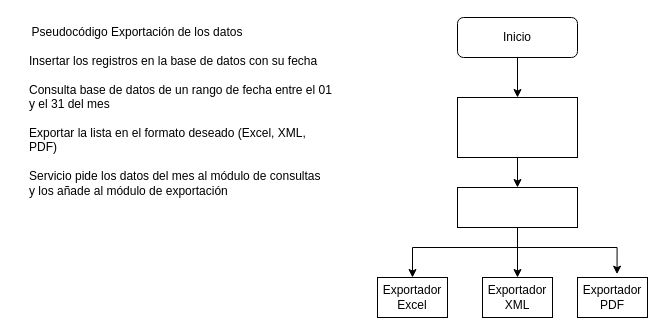
Image size: 665x335. Some labels were removed from this diagram. The box of each missing label's shape, as (x1, y1, x2, y2) in pixels:
Módulo Consulta Mes (consulta por fechas): (456, 96, 578, 158)
Servicio Exportar: (456, 186, 578, 228)
